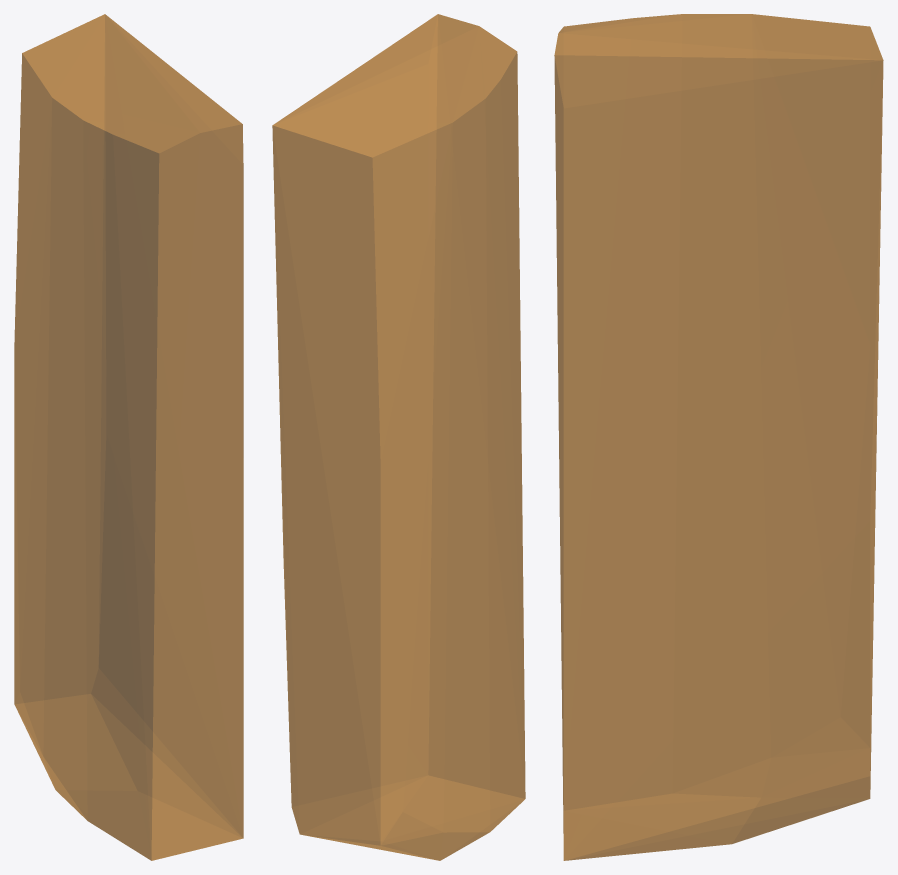
3 renders of one model, left to right at view 1: azimuth 30°, elevation 25°; view 2: azimuth 150°, elevation 25°; view 3: azimuth 270°, elevation 25°, orthographic. The views are drawn at different scales.
Parts seen in each view (by area): view 1: Shape_IndexedFaceSet.011_Shape_IndexedFaceSet.18072; view 2: Shape_IndexedFaceSet.011_Shape_IndexedFaceSet.18072; view 3: Shape_IndexedFaceSet.011_Shape_IndexedFaceSet.18072.
Part boxes in pixels (box(x1,y1,x2,y2)): Shape_IndexedFaceSet.011_Shape_IndexedFaceSet.18072: box(14, 14, 243, 860); Shape_IndexedFaceSet.011_Shape_IndexedFaceSet.18072: box(272, 14, 525, 860); Shape_IndexedFaceSet.011_Shape_IndexedFaceSet.18072: box(554, 14, 883, 860).
Size of the model in its own units: 0.0431 by 0.2647 by 0.0983.
